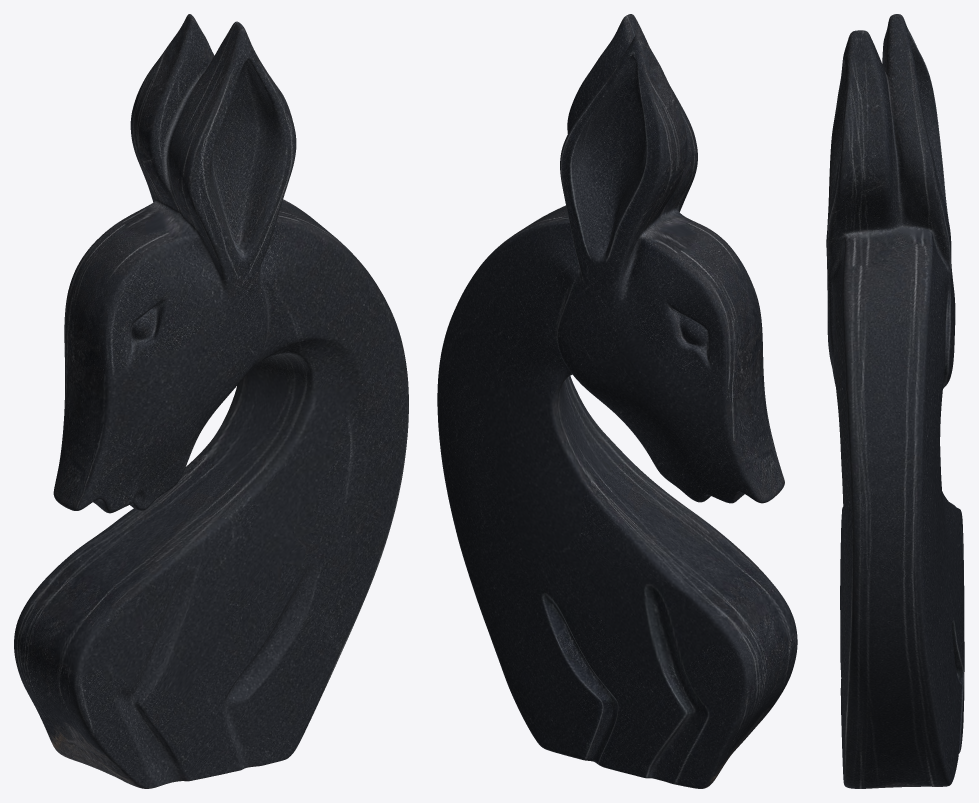
File: rabbit-v1.glb
The picture shows the model from 3 angles, left to right: view 1: azimuth 30°, elevation 25°; view 2: azimuth 150°, elevation 25°; view 3: azimuth 270°, elevation 25°; orthographic projection. The views are drawn at different scales.
Size of the model in its own units: 0.9319 by 1.9 by 0.3228.
Materials: 1 (1 with a texture image).
